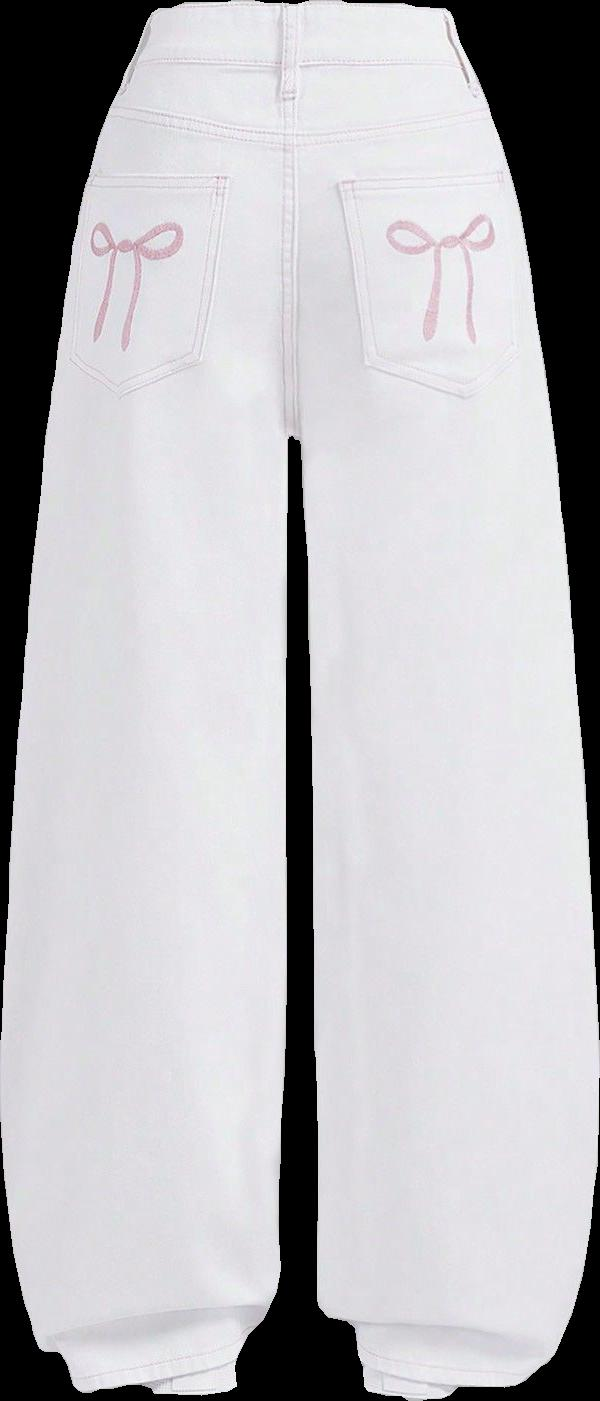Hemline: (364, 1375, 527, 1400), (79, 1377, 246, 1400)
Pantleg: (278, 0, 599, 1399), (0, 1, 290, 1394)
Waistline: (102, 98, 489, 149), (123, 49, 471, 74), (151, 0, 445, 20)
